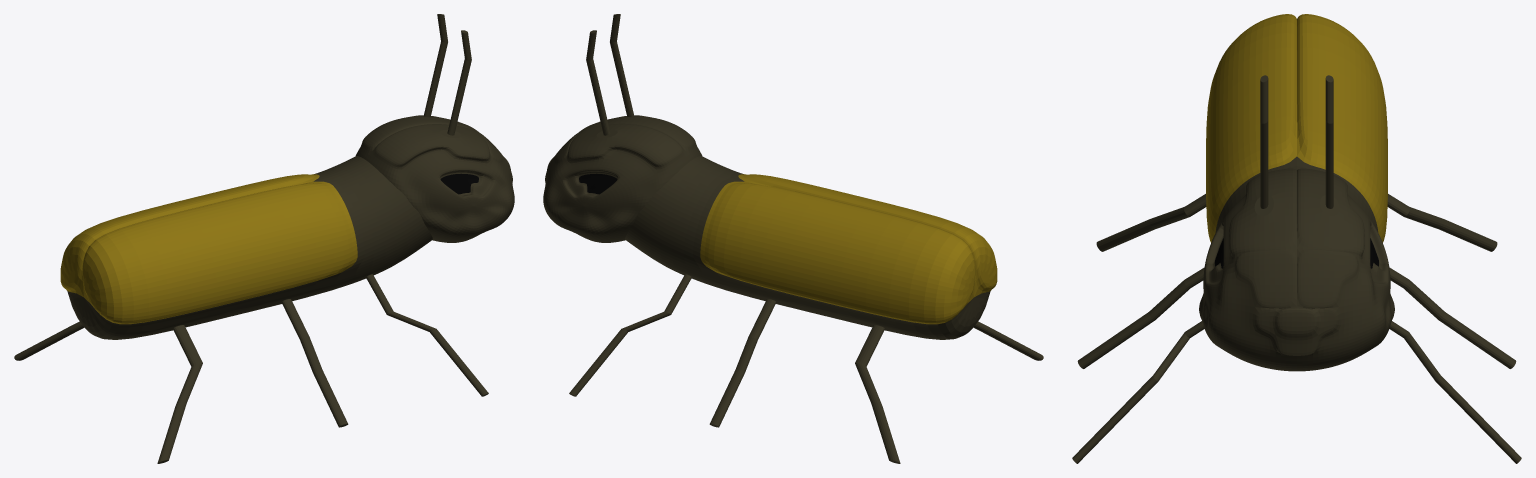
The model's file is bug.fbx.
3 renders of one model, left to right at view 1: azimuth 30°, elevation 25°; view 2: azimuth 150°, elevation 25°; view 3: azimuth 270°, elevation 25°, orthographic. The views are drawn at different scales.
Parts seen in each view (by area): view 1: Cylinder.007; view 2: Cylinder.007; view 3: Cylinder.007.
Part boxes in pixels (x1,y1,x2,y2): Cylinder.007: (14,14,514,463); Cylinder.007: (543,14,1043,463); Cylinder.007: (1072,14,1521,463).
Bounding box in the file's own units: 833 × 568 × 553.
